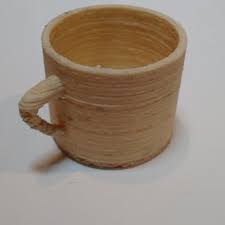fail: (18, 102, 63, 145)
